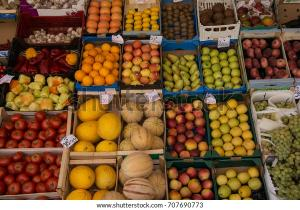apple: (168, 98, 212, 159), (213, 97, 253, 157), (122, 40, 162, 90), (215, 164, 267, 200), (200, 46, 244, 88), (169, 163, 210, 201), (199, 168, 210, 181), (217, 175, 228, 186), (226, 99, 238, 109), (132, 40, 142, 49), (193, 100, 203, 109), (202, 47, 210, 55)
bell_pepper: (4, 76, 73, 106), (8, 45, 74, 71), (25, 48, 37, 60), (28, 82, 42, 90)
garlic: (22, 19, 84, 43), (25, 0, 78, 12), (62, 2, 70, 8), (67, 27, 73, 32)
grape: (258, 106, 300, 196)
grapes: (270, 126, 294, 161)
kiwi: (162, 0, 196, 40), (189, 6, 194, 12)
lemon: (126, 0, 160, 34), (150, 6, 160, 12)
melon: (73, 91, 120, 155), (119, 88, 161, 150), (68, 158, 115, 198), (122, 153, 162, 197), (121, 152, 154, 178), (96, 113, 122, 140), (69, 166, 95, 190), (132, 127, 154, 151)
orange: (76, 38, 118, 84), (84, 0, 125, 34), (112, 12, 122, 21), (101, 43, 110, 51)
peach: (243, 37, 289, 79), (286, 40, 300, 76), (272, 38, 282, 48), (293, 41, 300, 52)
pear: (165, 52, 199, 92), (184, 55, 195, 61)
tomato: (0, 148, 62, 196), (0, 110, 66, 150), (27, 120, 41, 131), (30, 153, 42, 164)
